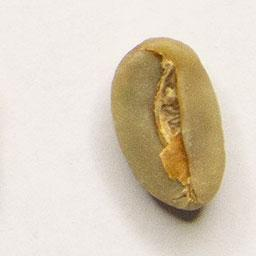longberry: (106, 32, 229, 214)
